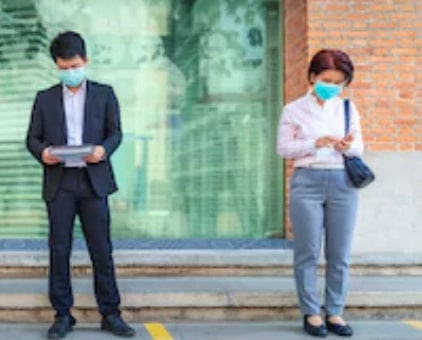Good: (25, 30, 363, 340)
